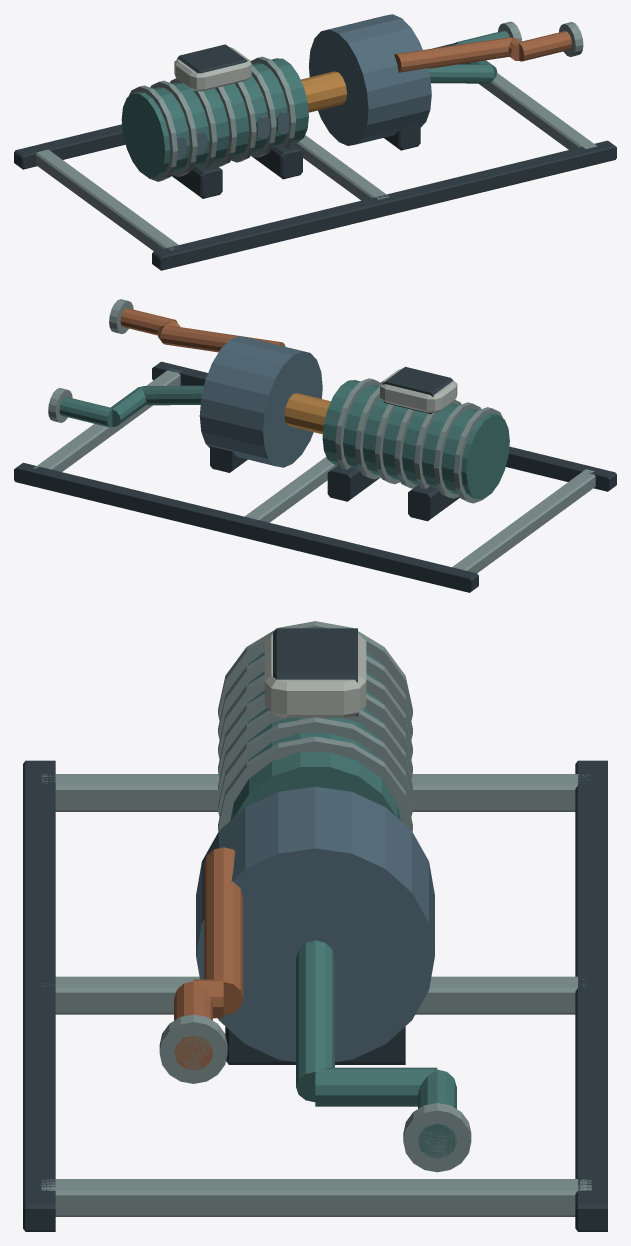
File: UT-03_circulation_drive.glb
3 views of the same model, one above another, from view 1: azimuth 30°, elevation 25°; view 2: azimuth 150°, elevation 25°; view 3: azimuth 270°, elevation 25° (orthographic). The views are drawn at different scales.
Parts seen in each view (by area): view 1: UT-03_circulation_drive; view 2: UT-03_circulation_drive; view 3: UT-03_circulation_drive.
Part boxes in pixels (bbox=[...]): UT-03_circulation_drive: bbox=[14, 14, 616, 270]; UT-03_circulation_drive: bbox=[14, 299, 616, 592]; UT-03_circulation_drive: bbox=[23, 621, 607, 1231].
Size of the model in its own units: 13 by 3.52 by 7.2.
